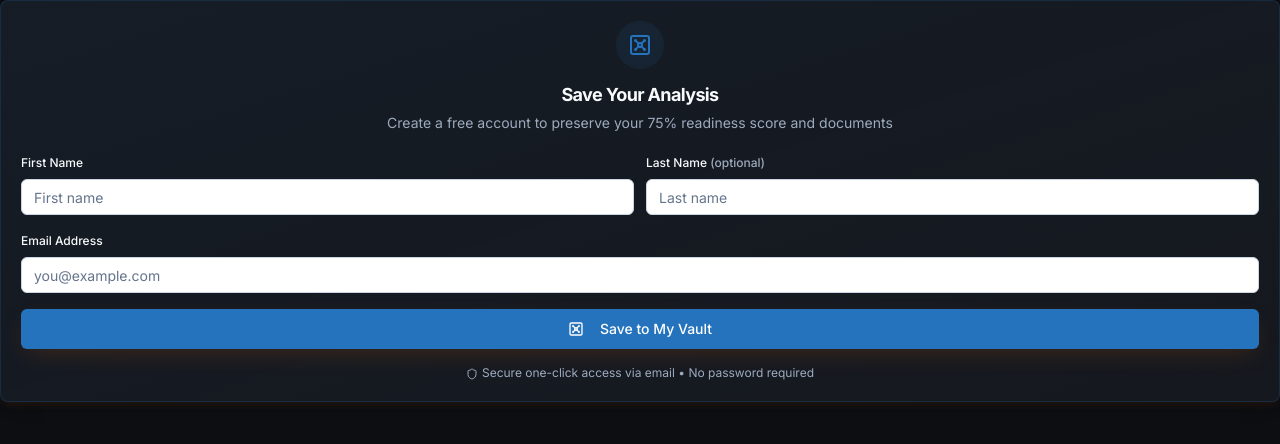
ClaimVaultSyncButton › Accessibility › associates error messages with inputs via aria-describedby
Type "invalid" into the field labelled "Email Address" at x=640, y=275, box x1=21 y1=257 x2=1259 y2=293
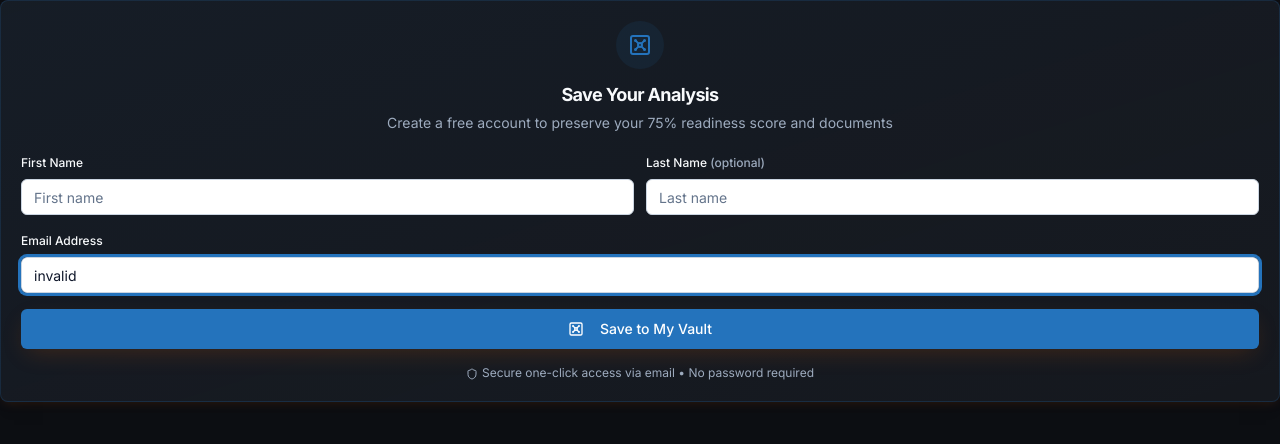
Leave the field labelled "Email Address", box x1=21 y1=257 x2=1259 y2=293
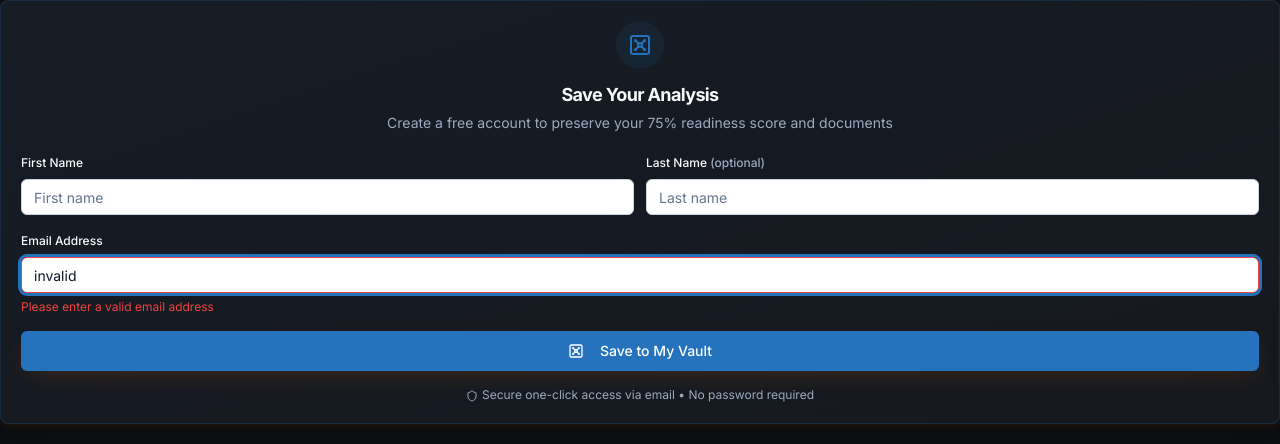
Result: the message "Please enter a valid email address" is shown at x1=21 y1=299 x2=214 y2=314
